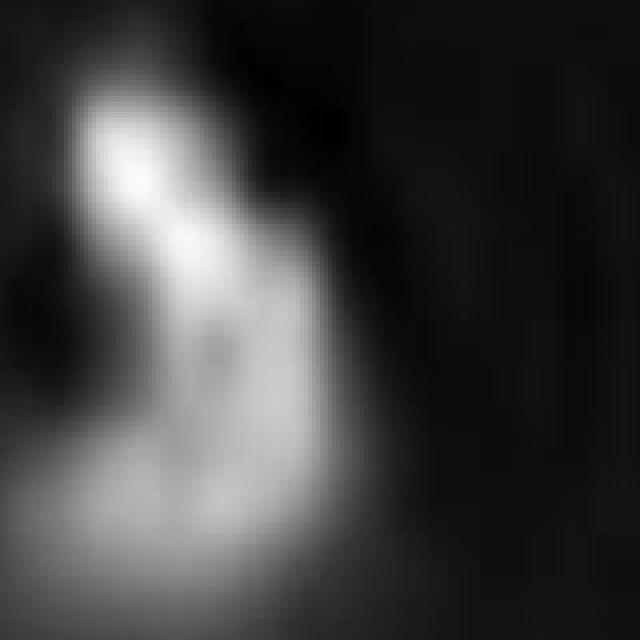person: (1, 59, 365, 640)
